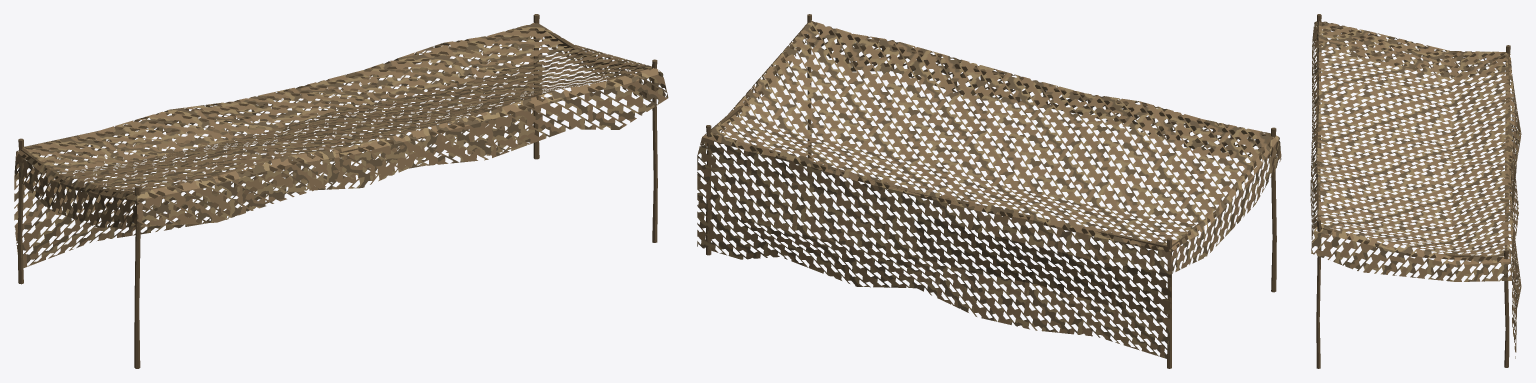
File: SM_Bld_CamoNet_Tent_05.glb
3 renders of one model, left to right at view 1: azimuth 30°, elevation 25°; view 2: azimuth 150°, elevation 25°; view 3: azimuth 270°, elevation 25°, orthographic. The views are drawn at different scales.
Visible parts, largest first — view 1: SM_Bld_CamoNet_Tent_05; view 2: SM_Bld_CamoNet_Tent_05; view 3: SM_Bld_CamoNet_Tent_05.
Part boxes in pixels (x1=…): SM_Bld_CamoNet_Tent_05: x1=14, y1=14, x2=668, y2=368; SM_Bld_CamoNet_Tent_05: x1=697, y1=14, x2=1281, y2=368; SM_Bld_CamoNet_Tent_05: x1=1310, y1=14, x2=1521, y2=368.
Bounding box in the file's own units: 11.84 × 3.81 × 4.94.
2 materials, 2 textured.
